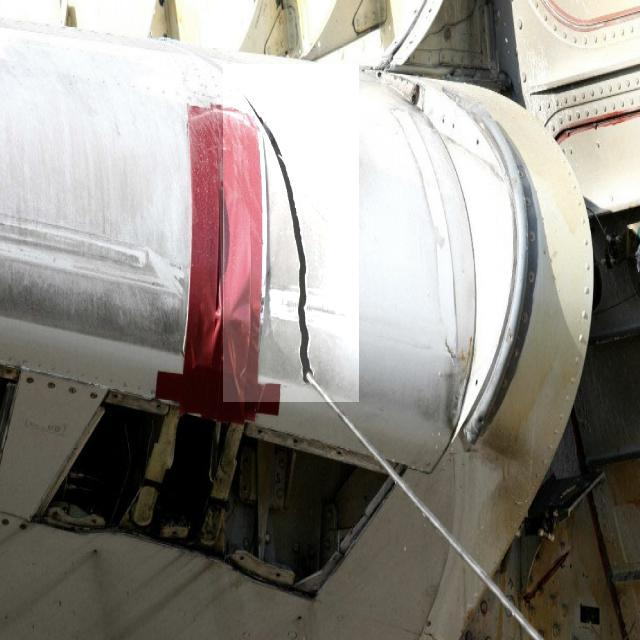crack: (224, 65, 360, 403)
